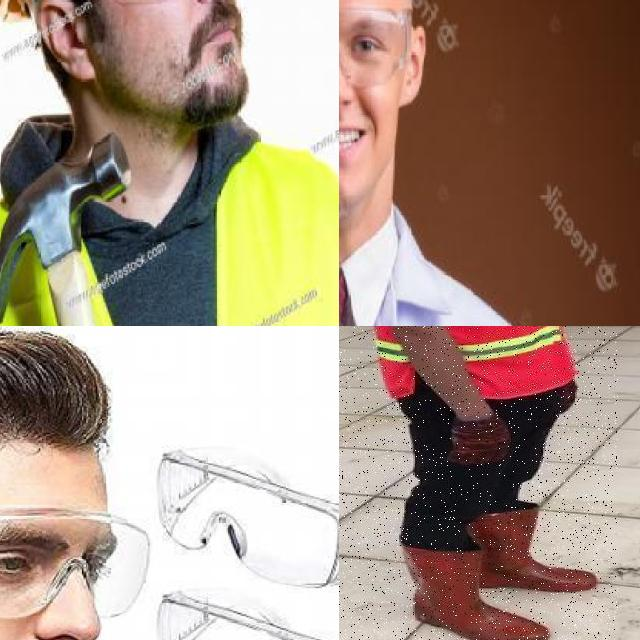No_Ear-Protection: (32, 0, 102, 82)
boots: (402, 542, 550, 640), (463, 509, 598, 592)
face_nomask: (0, 515, 112, 640), (339, 16, 404, 179), (136, 0, 260, 83)
glasses: (0, 502, 149, 621), (339, 2, 414, 94)
head_nohelmet: (0, 326, 112, 485)
person: (0, 0, 339, 326), (339, 326, 618, 640), (339, 0, 556, 326)
vest: (0, 136, 339, 326), (339, 326, 573, 397)
